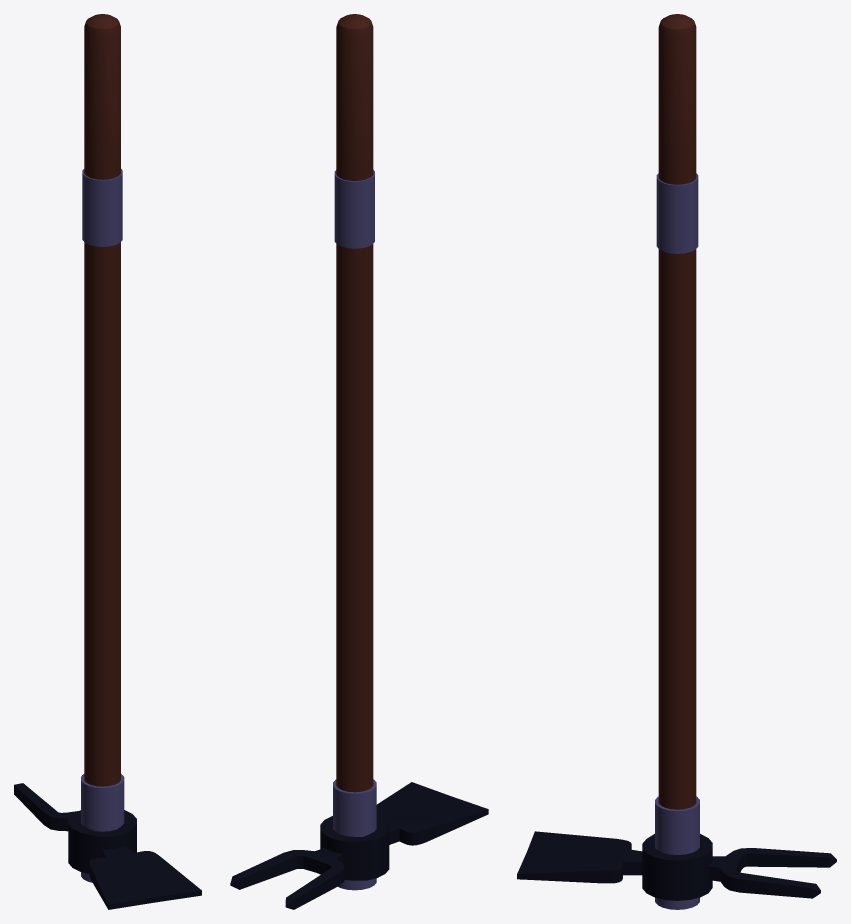
The model's file is mesh_serfouette.fbx.
3 views of the same model, side by side, from view 1: azimuth 30°, elevation 25°; view 2: azimuth 150°, elevation 25°; view 3: azimuth 270°, elevation 25° (orthographic). The views are drawn at different scales.
Parts seen in each view (by area): view 1: Pelle; view 2: Pelle; view 3: Pelle.
Part boxes in pixels (bbox=[...]): Pelle: bbox=[14, 14, 201, 909]; Pelle: bbox=[230, 14, 488, 909]; Pelle: bbox=[517, 14, 836, 909].
Size of the model in its own units: 2.3 by 15.79 by 5.18.
